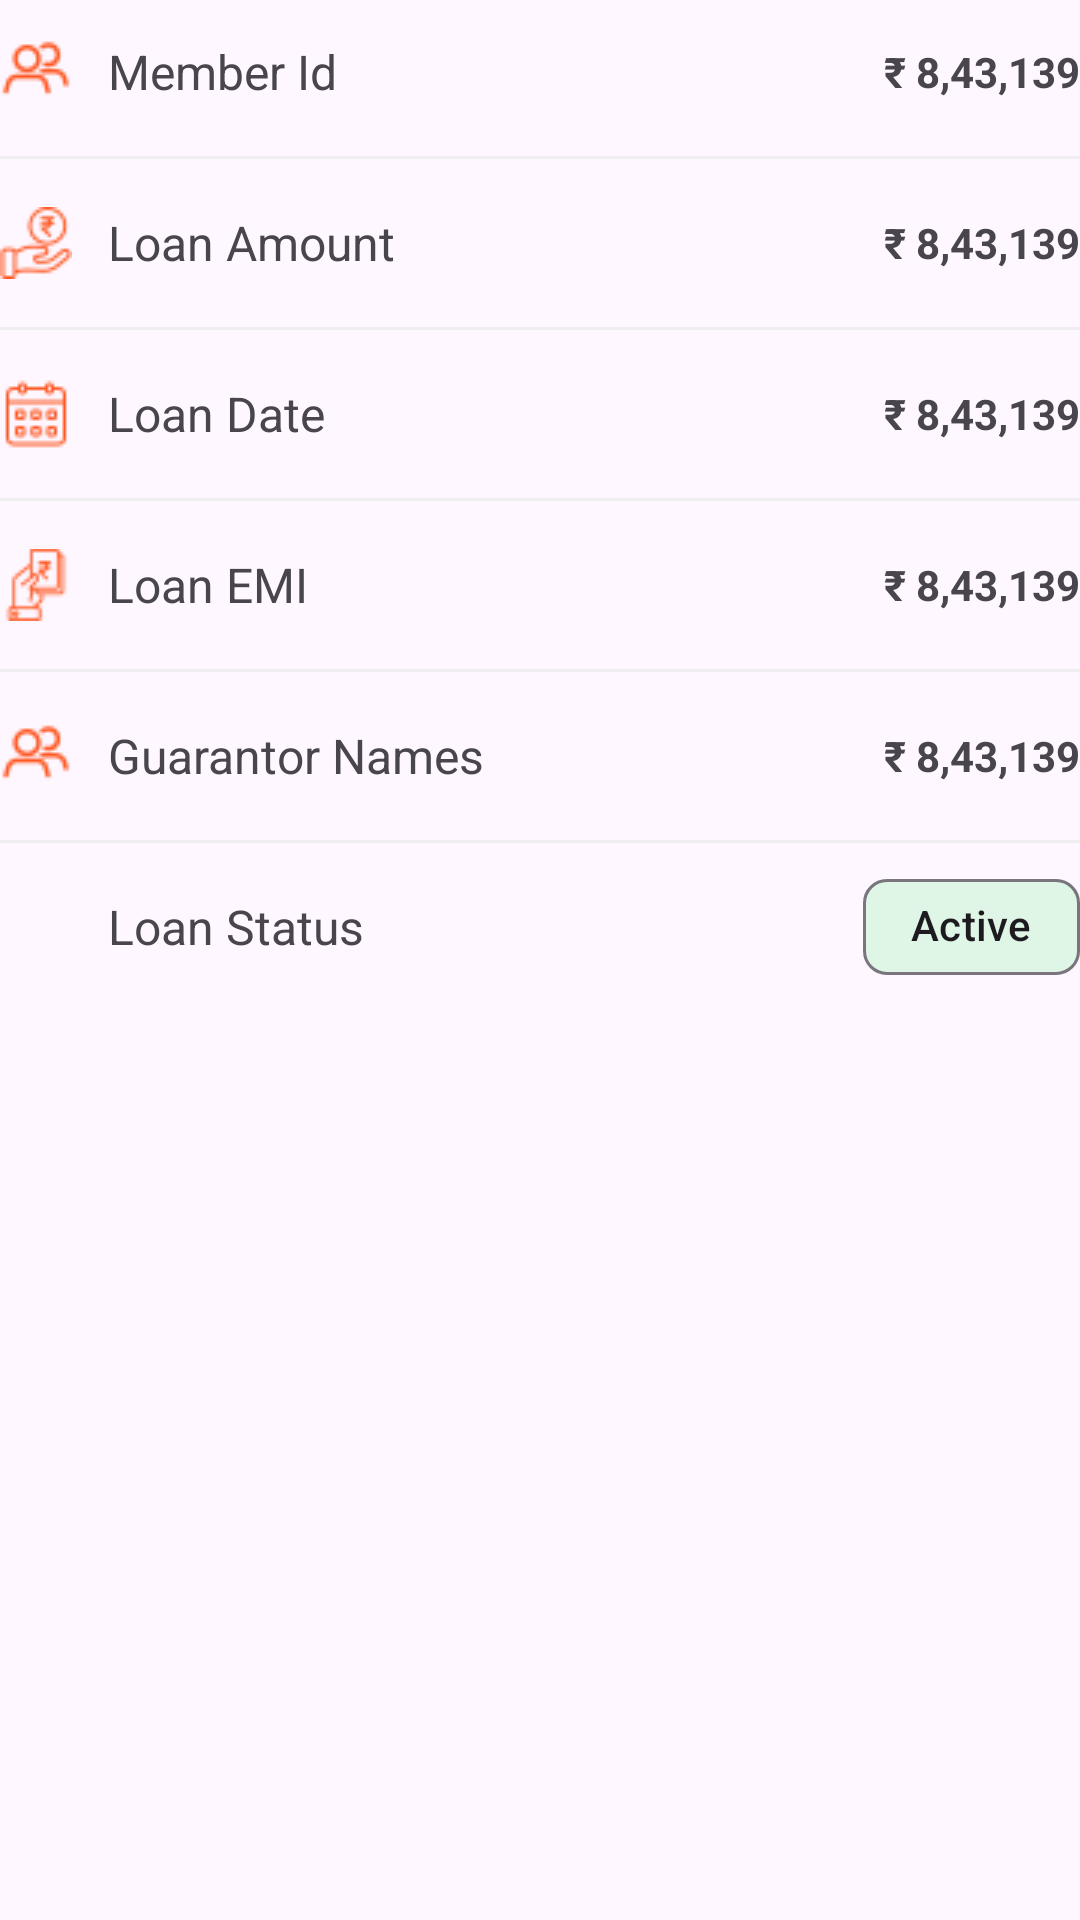

Icon click points for this 1080*1920 phone screenshot, format point (x, y):
calendar: point (36, 414)
